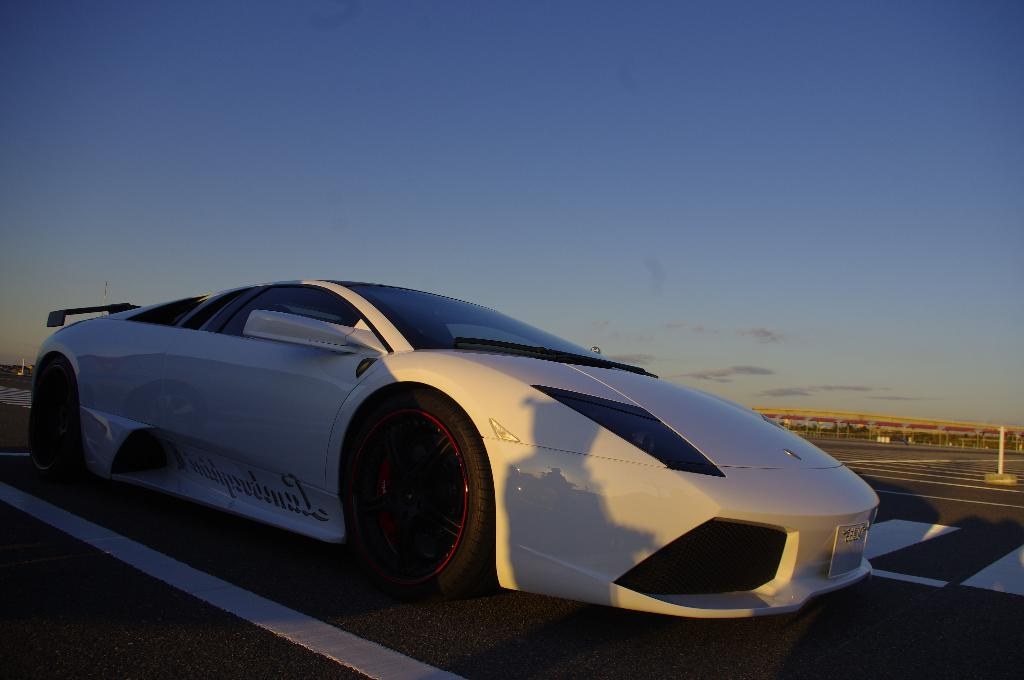Car: (0, 248, 917, 639)
